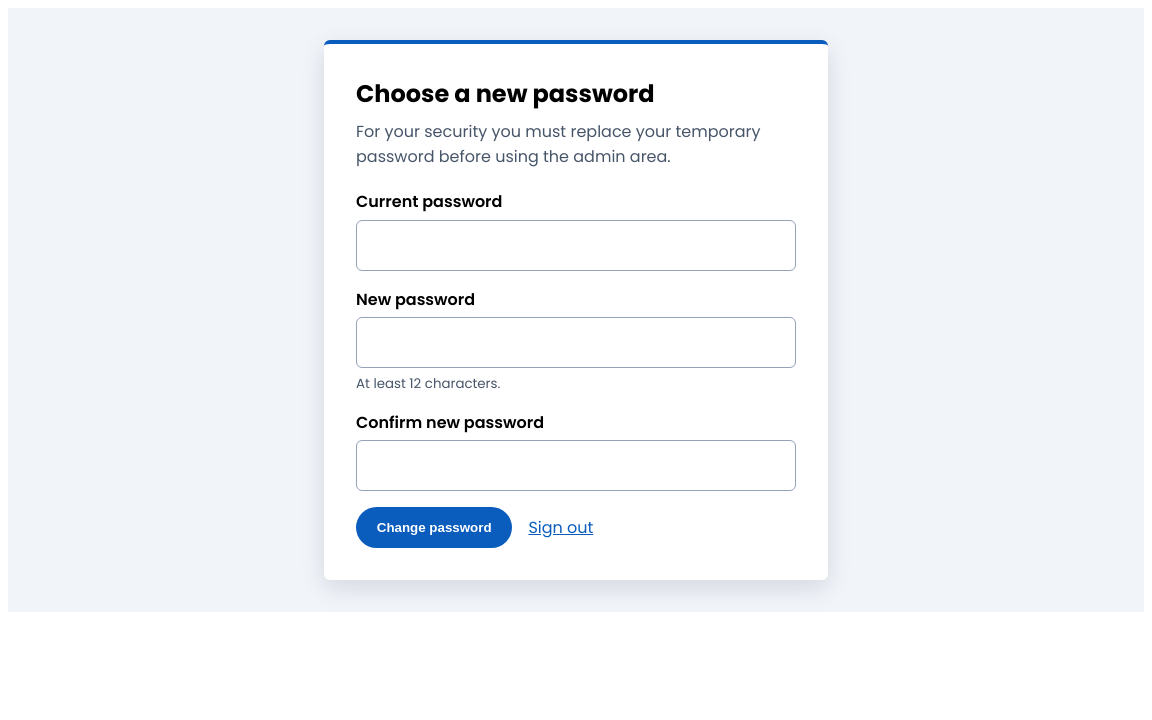
Test: ChangePasswordPageComponent › requires a password different from the current one
Type "same-password-123" into the password field labelled "Current password" at coordinates (576, 245), box 356,220 -> 796,271
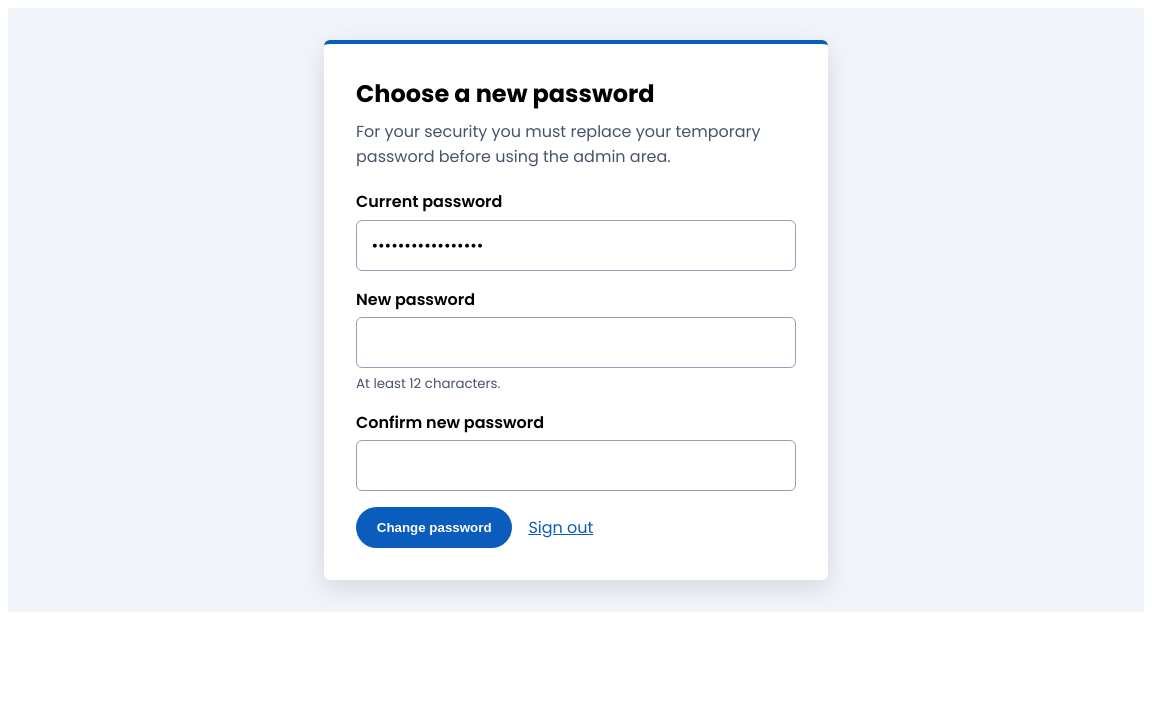
Type "same-password-123" into the password field labelled "New password" at coordinates (576, 343), box 356,317 -> 796,368
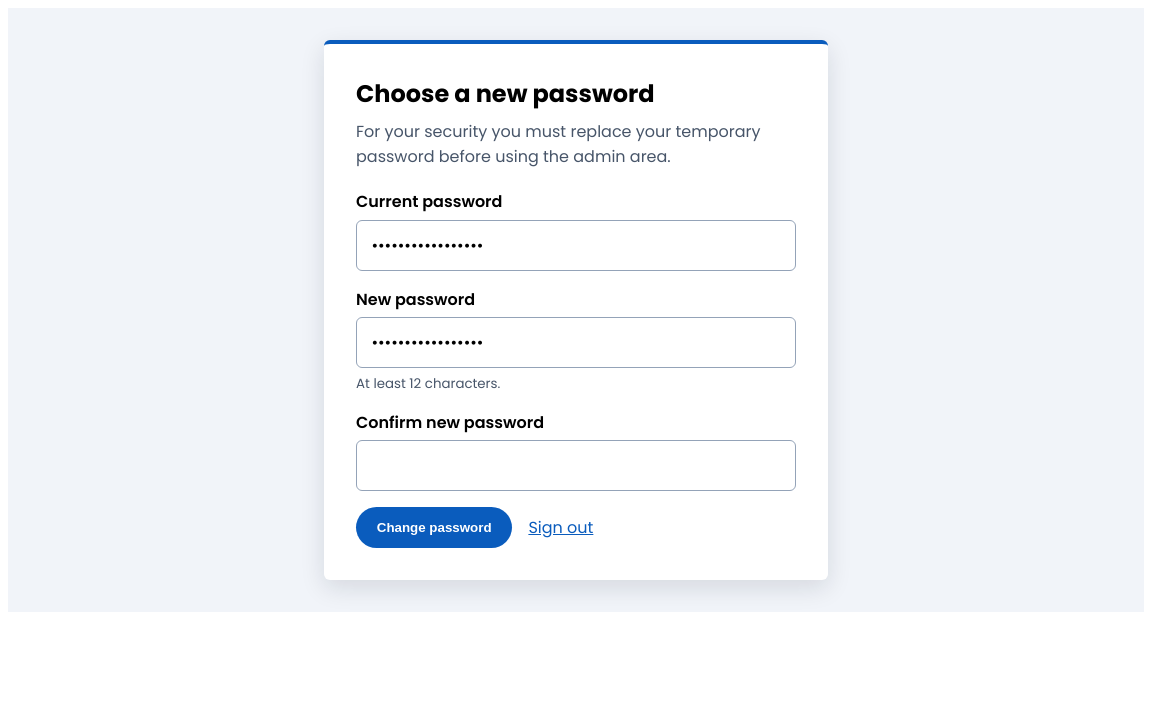
Type "same-password-123" into the password field labelled "Confirm new password" at coordinates (576, 466), box 356,440 -> 796,491
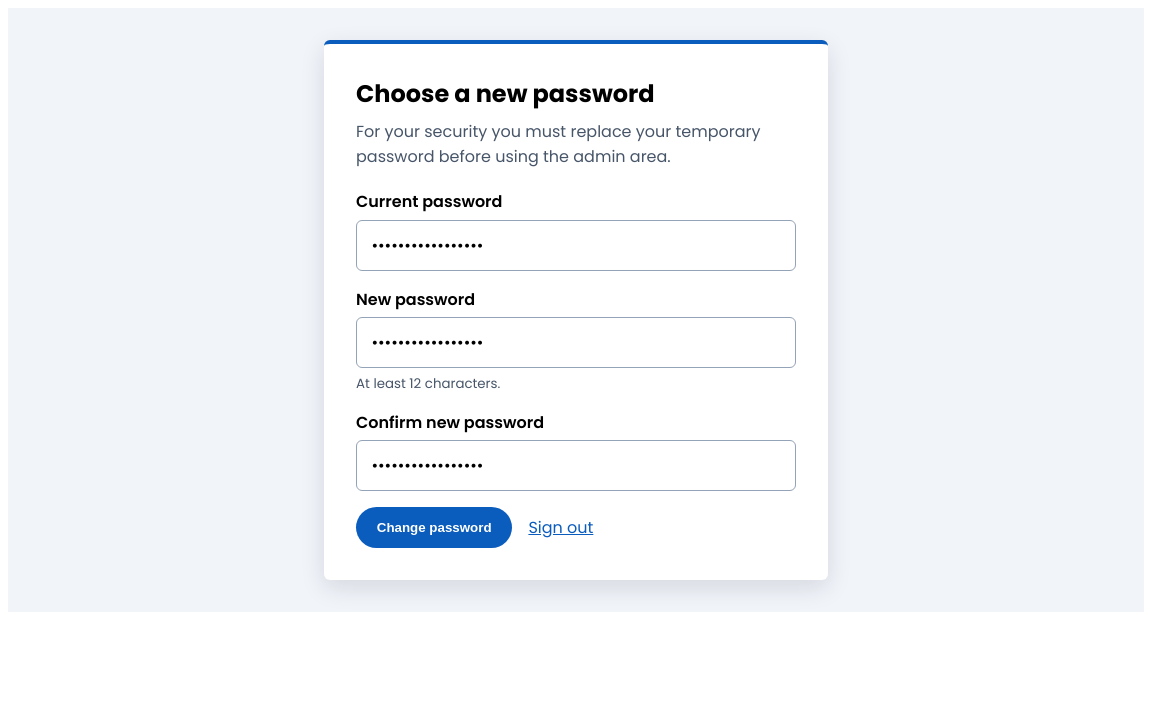
Click the submit button at coordinates (434, 528), box 356,507 -> 512,548
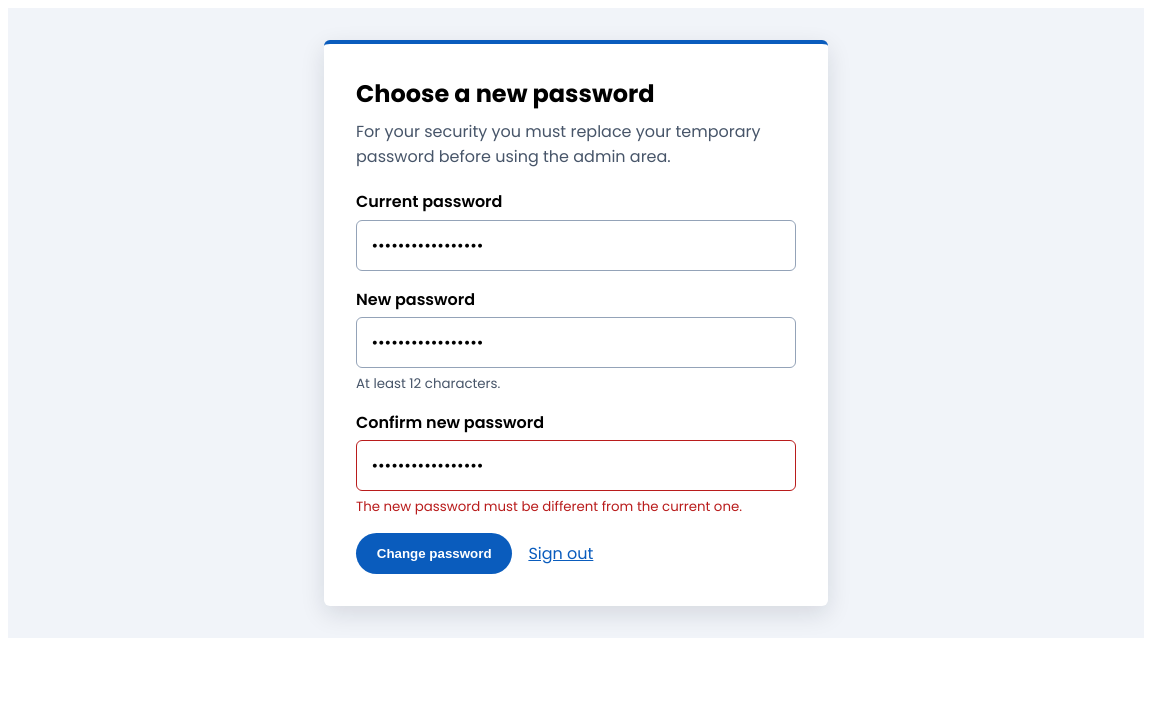
expect the text "must be different" is shown: met, box 356,497 -> 742,516
